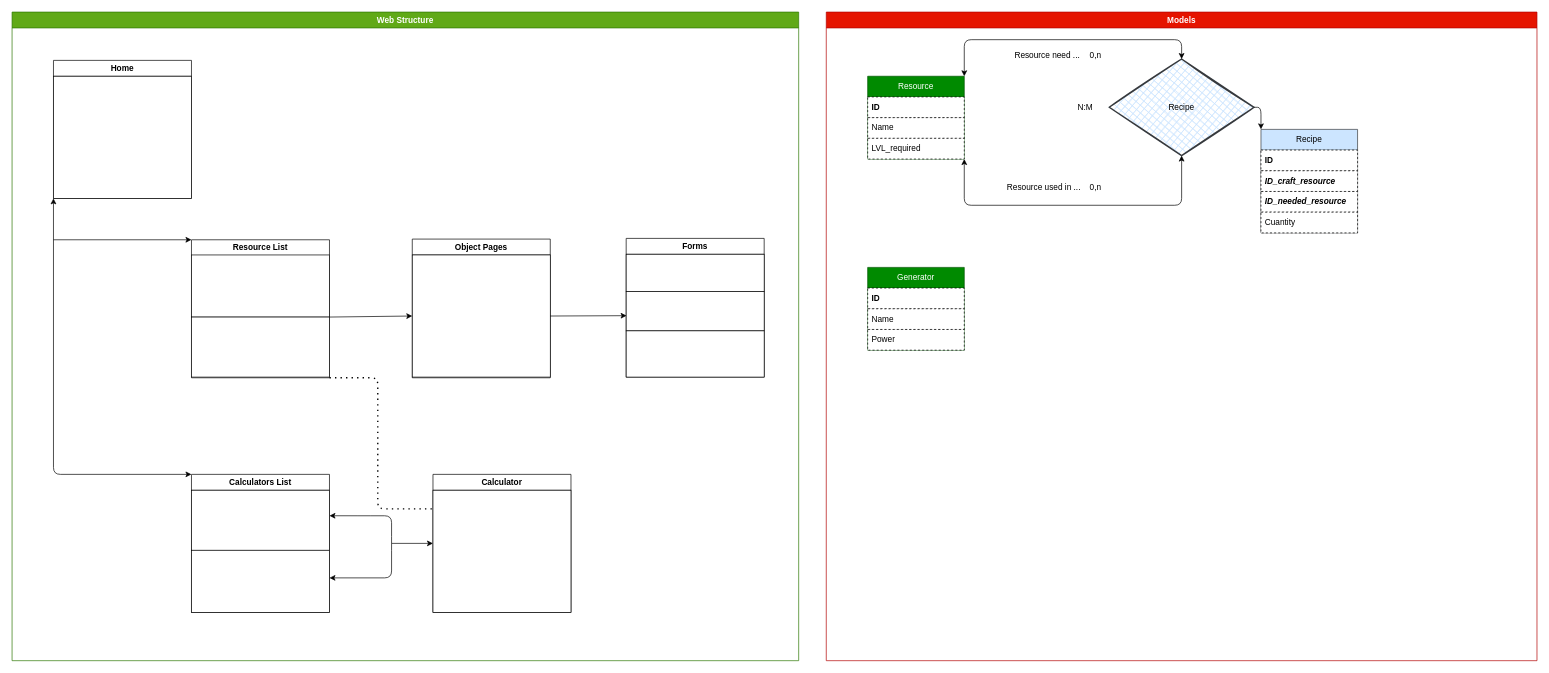
The diagram is 1549 pixels wide and 673 high, and some of its shapes have lost their labels. The shapes that lost their labels are listed below. From the top down, each one's centre as x and y in pixels, then its label:
At [260,285]: "All".
At [694,273]: "Add".
At [481,315]: "Details".
At [694,311]: "Delete".
At [260,346]: "Marked".
At [694,353]: "Update".
At [260,520]: "Energy".
At [260,581]: "Resources".
